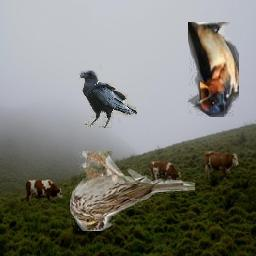Crow: (79, 70, 138, 128)
Sparrow: (71, 151, 196, 231)
Swallow: (189, 23, 240, 118)
